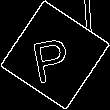P_N: (32, 26, 78, 84)
